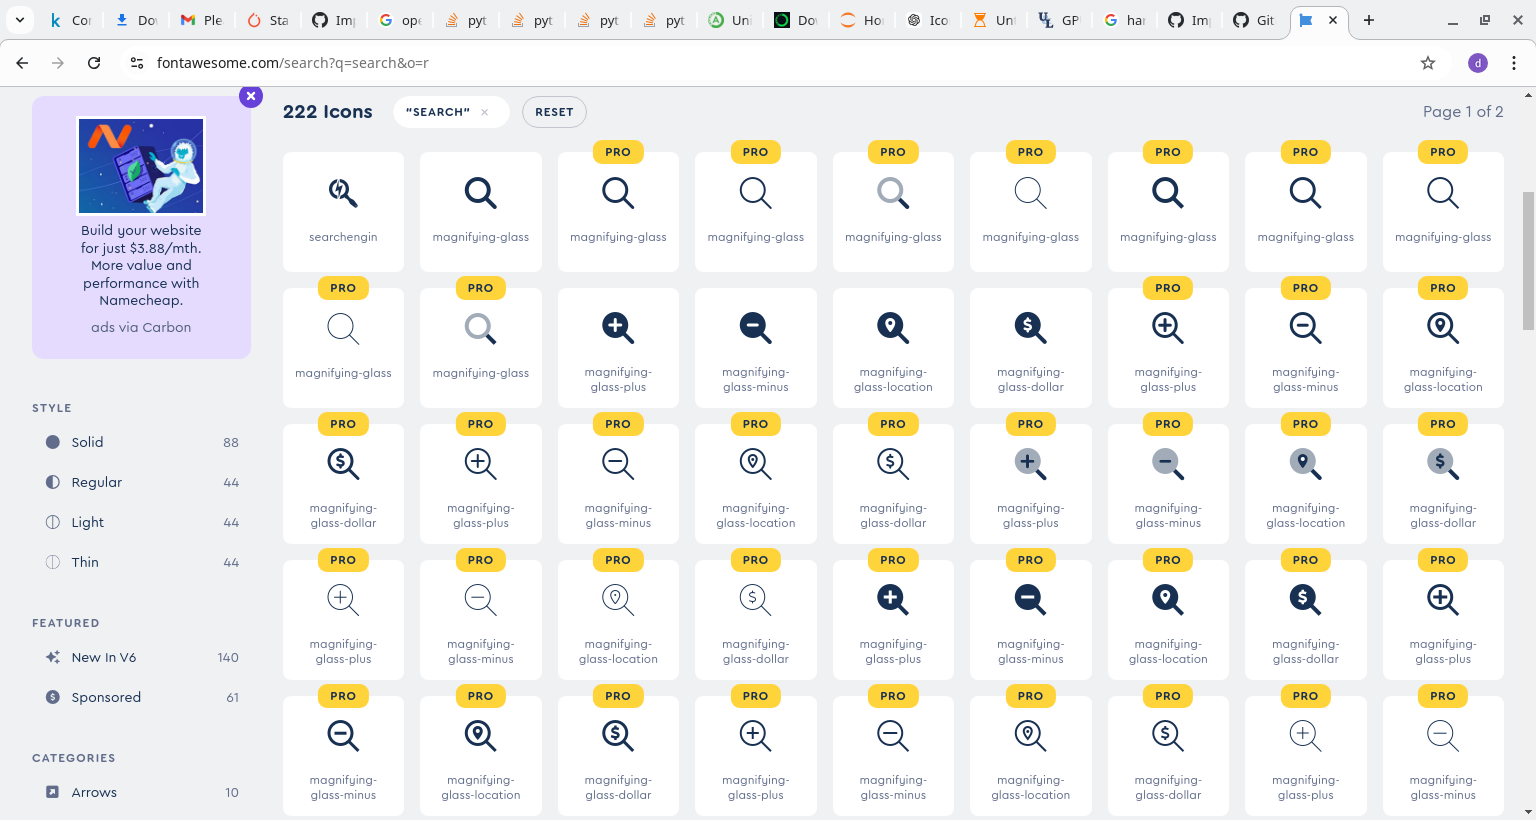search: (445, 168, 509, 216), (727, 168, 782, 212), (867, 171, 920, 215), (586, 173, 645, 212), (1003, 173, 1057, 215), (316, 309, 367, 351), (1417, 173, 1465, 214), (1142, 171, 1192, 210), (1283, 171, 1329, 212), (455, 309, 503, 348)
